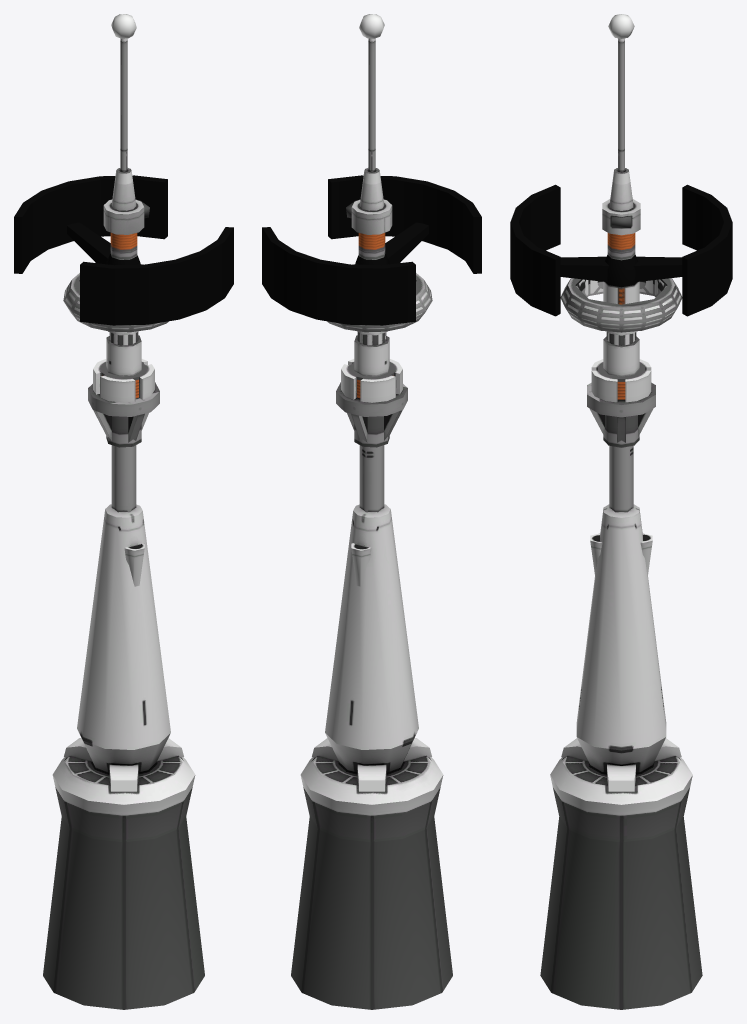
Rendered from tesla-coil.glb.
The picture shows the model from 3 angles, left to right: view 1: azimuth 30°, elevation 25°; view 2: azimuth 150°, elevation 25°; view 3: azimuth 270°, elevation 25°; orthographic projection.
Parts seen in each view (by area): view 1: tesla-tower-1; view 2: tesla-tower-1; view 3: tesla-tower-1.
Boxes of the visible parts, x1=… form: tesla-tower-1: x1=14, y1=14, x2=233, y2=1009; tesla-tower-1: x1=262, y1=14, x2=481, y2=1009; tesla-tower-1: x1=510, y1=14, x2=732, y2=1009.
Bounding box in the file's own units: 1.31 × 7.84 × 1.64.
1 material, 1 textured.
